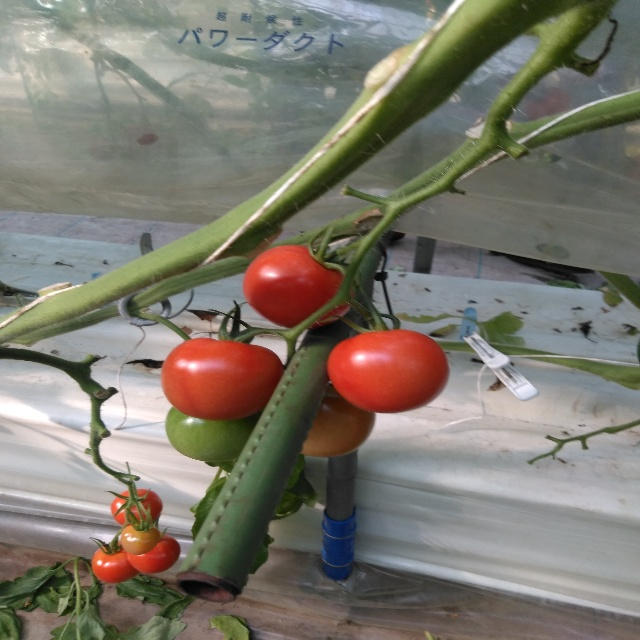l_fully_ripened: (326, 328, 450, 413), (160, 337, 285, 420), (242, 245, 355, 329), (127, 532, 180, 574), (91, 541, 141, 584), (111, 489, 163, 526)
l_green: (164, 404, 260, 462)
l_half_ripened: (300, 383, 375, 458), (120, 523, 159, 555)
